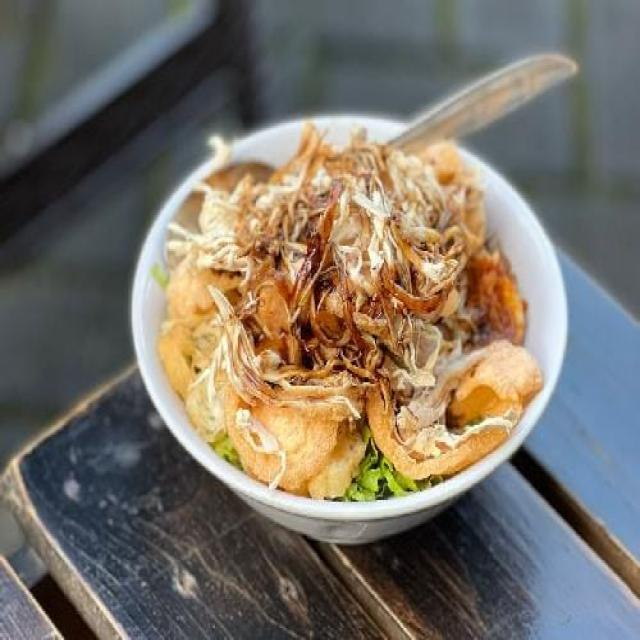bubur ayam: (158, 138, 540, 500)
mangkuk: (131, 124, 569, 548)
